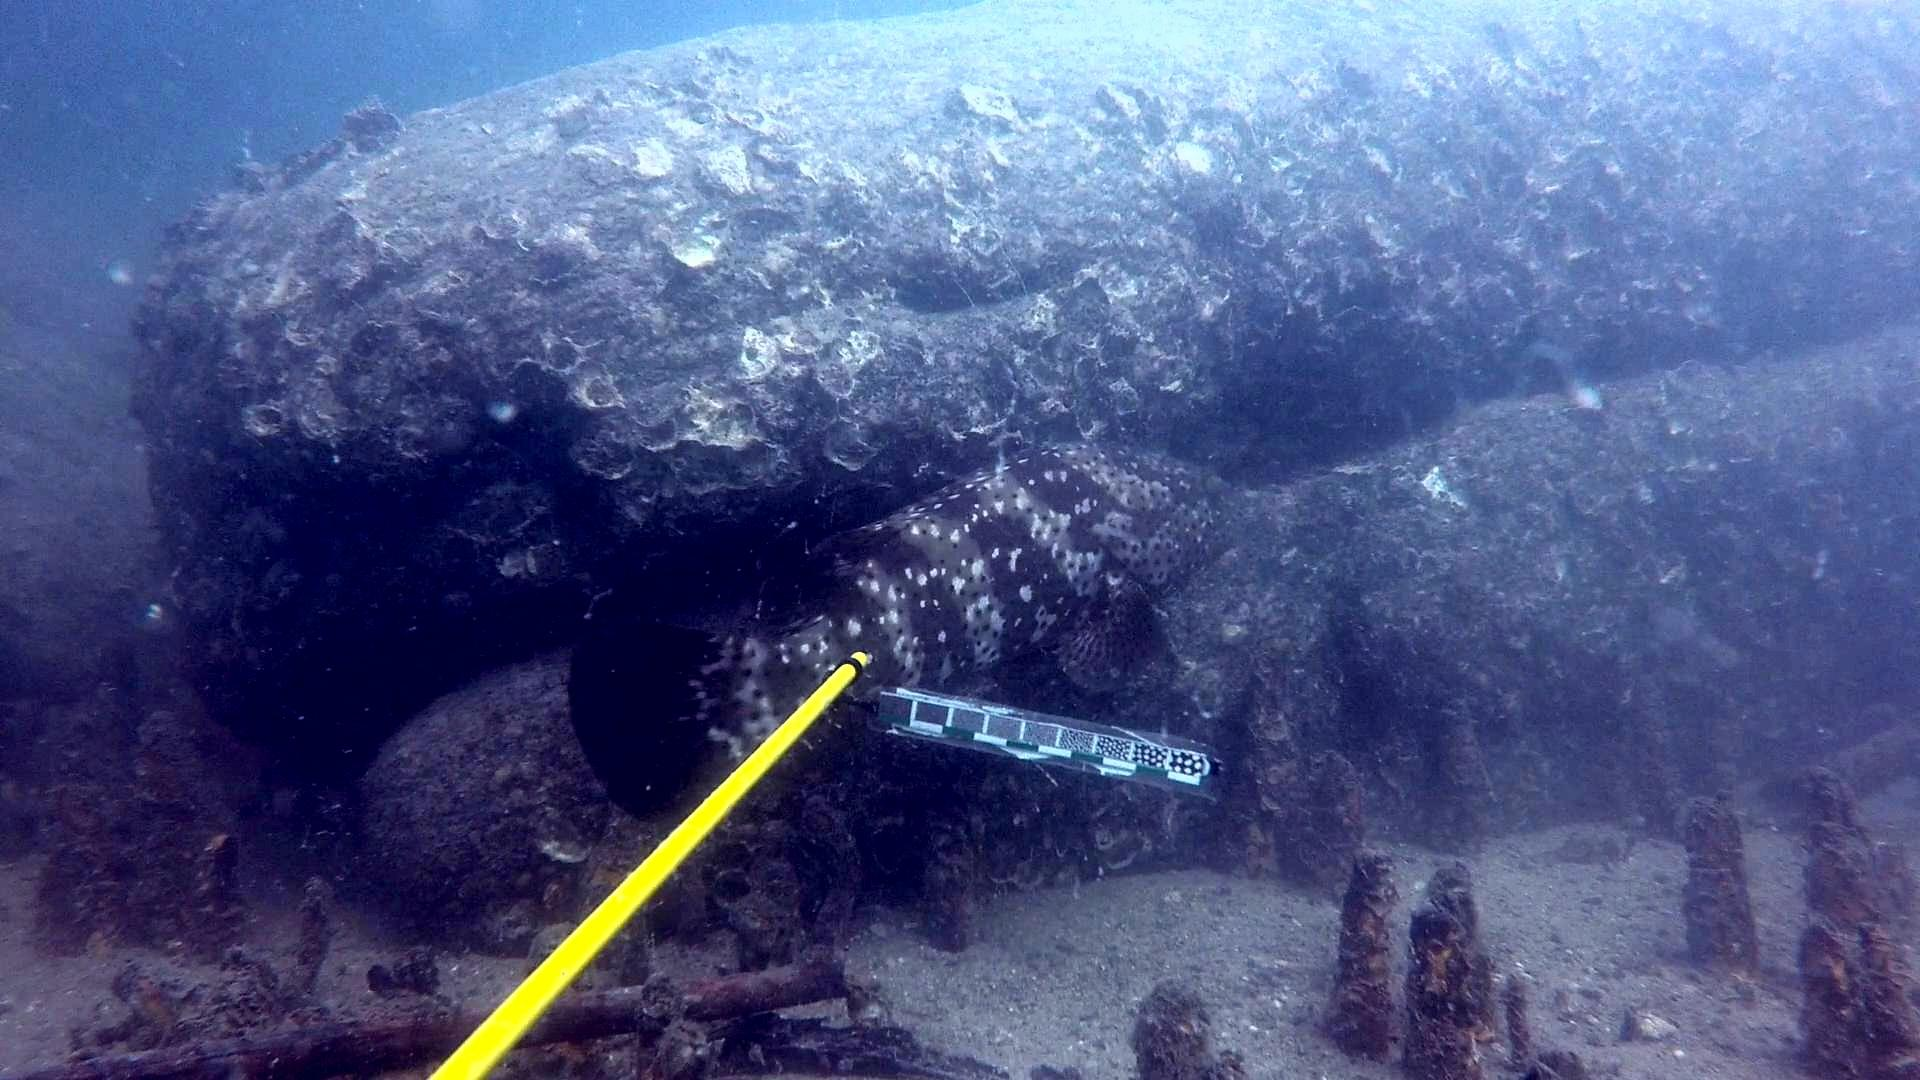epinephelus: (564, 428, 1256, 829)
